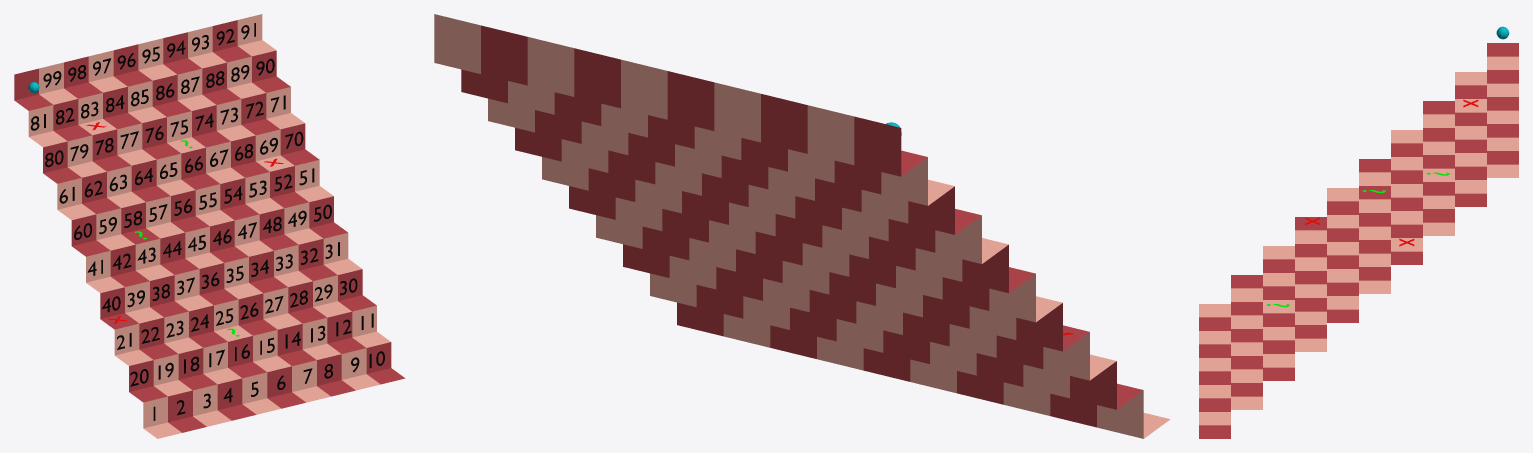
The model's file is board.obj.
The picture shows the model from 3 angles, left to right: view 1: azimuth 30°, elevation 25°; view 2: azimuth 150°, elevation 25°; view 3: azimuth 270°, elevation 25°; orthographic projection. The views are drawn at different scales.
Parts seen in each view (by area): view 1: Plane.001_Plane.002, Plane_Plane.001, Text.008_Text.012, Text.004_Text.008, Text.006_Text.010, Text.005_Text.009, Text.002_Text.006, Text.007_Text.011, Text.003_Text.007, Text.009_Text.013, Text.001_Text.004, Text_Text.003; view 2: Plane.001_Plane.002, Plane_Plane.001; view 3: Plane_Plane.001, Plane.001_Plane.002.
Part boxes in pixels (box(x1,y1,x2,y2)): Plane.001_Plane.002: box(28, 14, 390, 438); Plane_Plane.001: box(14, 20, 405, 432); Text.008_Text.012: box(30, 58, 274, 130); Text.004_Text.008: box(87, 204, 331, 275); Text.006_Text.010: box(59, 131, 303, 203); Text.005_Text.009: box(74, 168, 314, 239); Text.002_Text.006: box(117, 278, 357, 349); Text.007_Text.011: box(45, 95, 285, 167); Text.003_Text.007: box(102, 242, 339, 312); Text.009_Text.013: box(43, 23, 255, 87); Text.001_Text.004: box(130, 313, 373, 386); Text_Text.003: box(153, 351, 384, 420); Plane.001_Plane.002: box(434, 14, 1170, 438); Plane_Plane.001: box(461, 25, 1143, 427); Plane_Plane.001: box(1199, 43, 1518, 438); Plane.001_Plane.002: box(1199, 56, 1518, 425).
Size of the model in its own units: 10 by 10 by 10.
